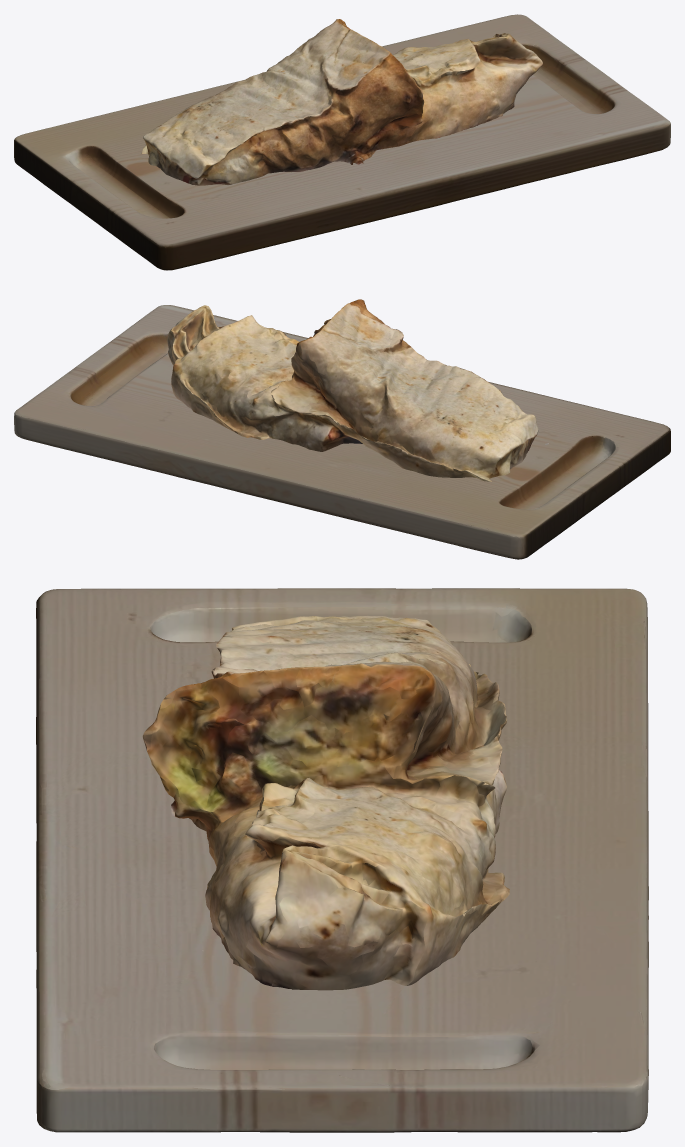
File: Makali.sandvich.glb
The picture shows the model from 3 angles, top to bottom: view 1: azimuth 30°, elevation 25°; view 2: azimuth 150°, elevation 25°; view 3: azimuth 270°, elevation 25°; orthographic projection. The views are drawn at different scales.
Visible parts, largest first — view 1: /Root/Scenes/Scene/Object_62/Object_64/Object_65/Submesh_0, /Root/Scenes/Scene/Object_62/Object_63/Submesh_0; view 2: /Root/Scenes/Scene/Object_62/Object_64/Object_65/Submesh_0, /Root/Scenes/Scene/Object_62/Object_63/Submesh_0; view 3: /Root/Scenes/Scene/Object_62/Object_64/Object_65/Submesh_0, /Root/Scenes/Scene/Object_62/Object_63/Submesh_0.
Part boxes in pixels (left/top/right/bottom): /Root/Scenes/Scene/Object_62/Object_64/Object_65/Submesh_0: left=14, top=14, right=670, bottom=270; /Root/Scenes/Scene/Object_62/Object_63/Submesh_0: left=141, top=19, right=542, bottom=191; /Root/Scenes/Scene/Object_62/Object_64/Object_65/Submesh_0: left=14, top=305, right=670, bottom=559; /Root/Scenes/Scene/Object_62/Object_63/Submesh_0: left=167, top=299, right=548, bottom=481; /Root/Scenes/Scene/Object_62/Object_64/Object_65/Submesh_0: left=36, top=588, right=648, bottom=1132; /Root/Scenes/Scene/Object_62/Object_63/Submesh_0: left=142, top=615, right=509, bottom=990.
Size of the model in its own units: 0.4119 by 0.0914 by 0.2133.
2 materials, 2 textured.
